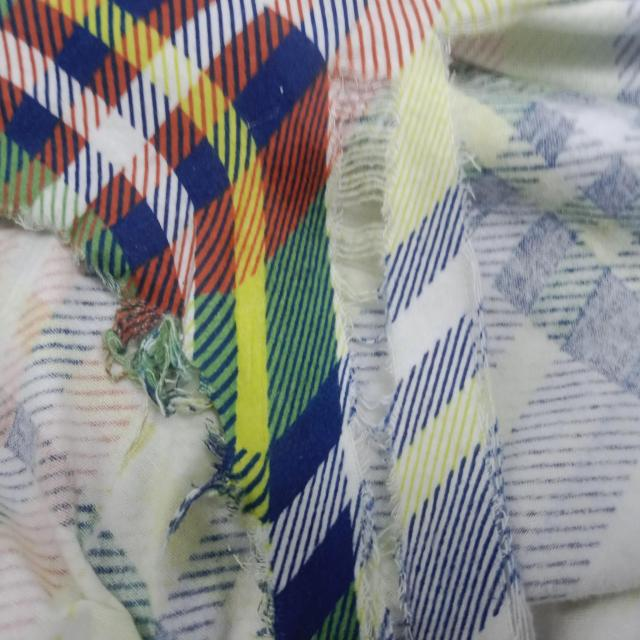cut: (5, 193, 286, 612), (441, 8, 606, 560), (320, 44, 418, 598)
